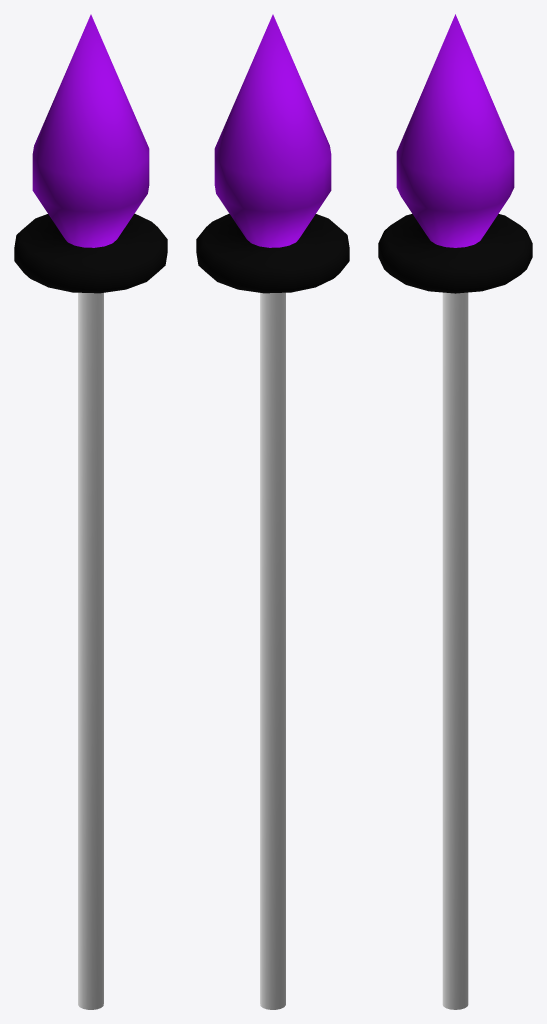
File: Staff.fbx
The picture shows the model from 3 angles, left to right: view 1: azimuth 30°, elevation 25°; view 2: azimuth 150°, elevation 25°; view 3: azimuth 270°, elevation 25°; orthographic projection.
Visible parts, largest first — view 1: Staff; view 2: Staff; view 3: Staff.
Boxes of the visible parts, box(x1,y1,x2,y2) form: Staff: box(14, 14, 167, 1009); Staff: box(196, 14, 349, 1009); Staff: box(378, 14, 532, 1009).
Bounding box in the file's own units: 30.25 × 214 × 30.25.
